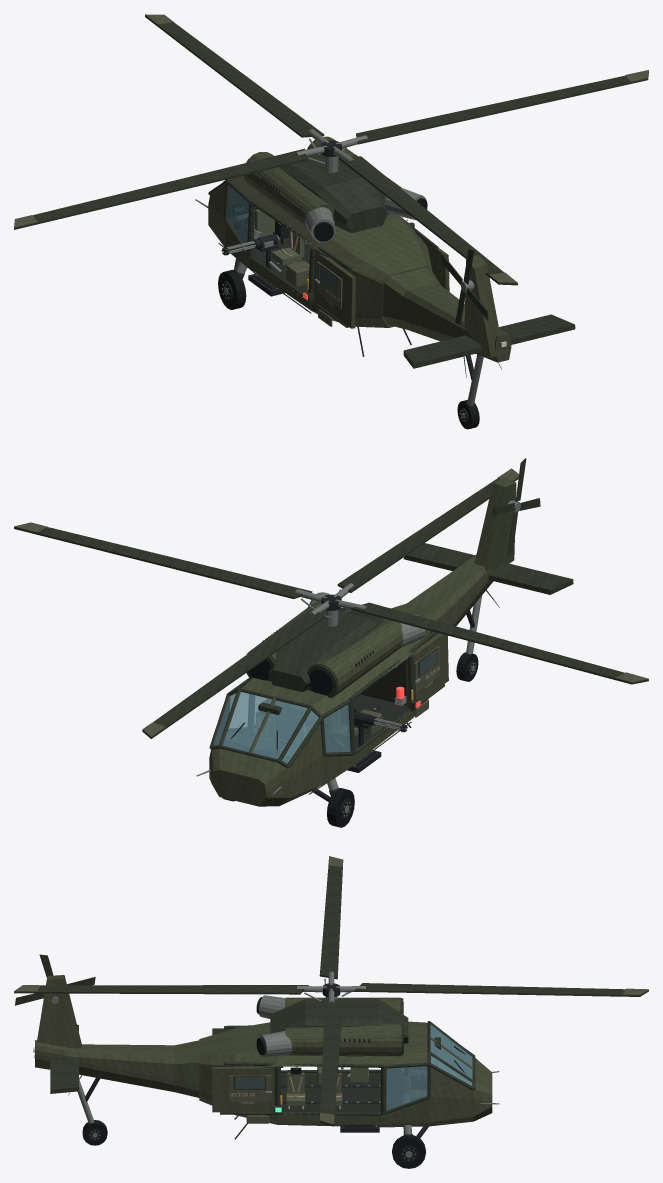
Rendered from black-hawk.glb.
3 renders of one model, top to bottom at view 1: azimuth 30°, elevation 25°; view 2: azimuth 150°, elevation 25°; view 3: azimuth 270°, elevation 25°, orthographic. The views are drawn at different scales.
Parts seen in each view (by area): view 1: Airframe Olive enamel, MainRotor Dark enamel, Airframe Dark enamel, Airframe Olive enamel.001, Airframe Steel, Airframe Rubber, Airframe Olive enamel.002, Airframe Glazing, TailRotor Dark enamel, Airframe Glazing.001, MainRotor Panel enamel, Cabin Floor and liners (+4 smaller); view 2: Airframe Olive enamel, MainRotor Dark enamel, Airframe Dark enamel, Airframe Olive enamel.001, Airframe Glazing, Airframe Glazing.001, Cabin Floor and liners, Airframe Rubber, Airframe Steel, Airframe Dark enamel.001, Airframe Olive enamel.002, TailRotor Dark enamel (+7 smaller); view 3: Airframe Olive enamel, MainRotor Dark enamel, Airframe Dark enamel, Airframe Olive enamel.001, Airframe Glazing, Airframe Glazing.001, Cabin Floor and liners.002, Airframe Olive enamel.002, Airframe Steel, Airframe Rubber, Cabin Seat canvas.002, Airframe Dark enamel.001 (+7 smaller).
Boxes of the visible parts, <box> form: Airframe Olive enamel: <box>209,136,511,362</box>; MainRotor Dark enamel: <box>14,15,648,285</box>; Airframe Dark enamel: <box>208,140,575,368</box>; Airframe Olive enamel.001: <box>208,136,432,327</box>; Airframe Steel: <box>195,156,483,421</box>; Airframe Rubber: <box>218,198,479,429</box>; Airframe Olive enamel.002: <box>251,137,449,328</box>; Airframe Glazing: <box>226,186,335,290</box>; TailRotor Dark enamel: <box>441,248,488,324</box>; Airframe Glazing.001: <box>227,186,248,246</box>; MainRotor Panel enamel: <box>14,14,648,283</box>; Cabin Floor and liners: <box>238,231,311,292</box>; Airframe Olive enamel: <box>209,478,516,805</box>; MainRotor Dark enamel: <box>14,477,648,738</box>; Airframe Dark enamel: <box>209,543,573,795</box>; Airframe Olive enamel.001: <box>209,602,432,806</box>; Airframe Glazing: <box>214,650,437,763</box>; Airframe Glazing.001: <box>214,692,349,762</box>; Cabin Floor and liners: <box>277,660,409,749</box>; Airframe Rubber: <box>222,616,478,827</box>; Airframe Steel: <box>197,501,509,816</box>; Airframe Dark enamel.001: <box>210,632,444,767</box>; Airframe Olive enamel.002: <box>249,602,448,750</box>; TailRotor Dark enamel: <box>493,458,540,555</box>; Airframe Olive enamel: <box>34,975,491,1125</box>; MainRotor Dark enamel: <box>14,860,648,1126</box>; Airframe Dark enamel: <box>50,998,475,1135</box>; Airframe Olive enamel.001: <box>199,997,492,1127</box>; Airframe Glazing: <box>235,1025,472,1110</box>; Airframe Glazing.001: <box>387,1025,471,1109</box>; Cabin Floor and liners.002: <box>281,1075,403,1112</box>; Airframe Olive enamel.002: <box>212,1003,401,1112</box>; Airframe Steel: <box>51,995,499,1160</box>; Airframe Rubber: <box>82,997,425,1168</box>; Cabin Seat canvas.002: <box>286,1067,425,1105</box>; Airframe Dark enamel.001: <box>223,998,475,1115</box>.
Size of the model in its own units: 16.3 by 5.05 by 16.3.
Materials: 17 (6 with a texture image).
